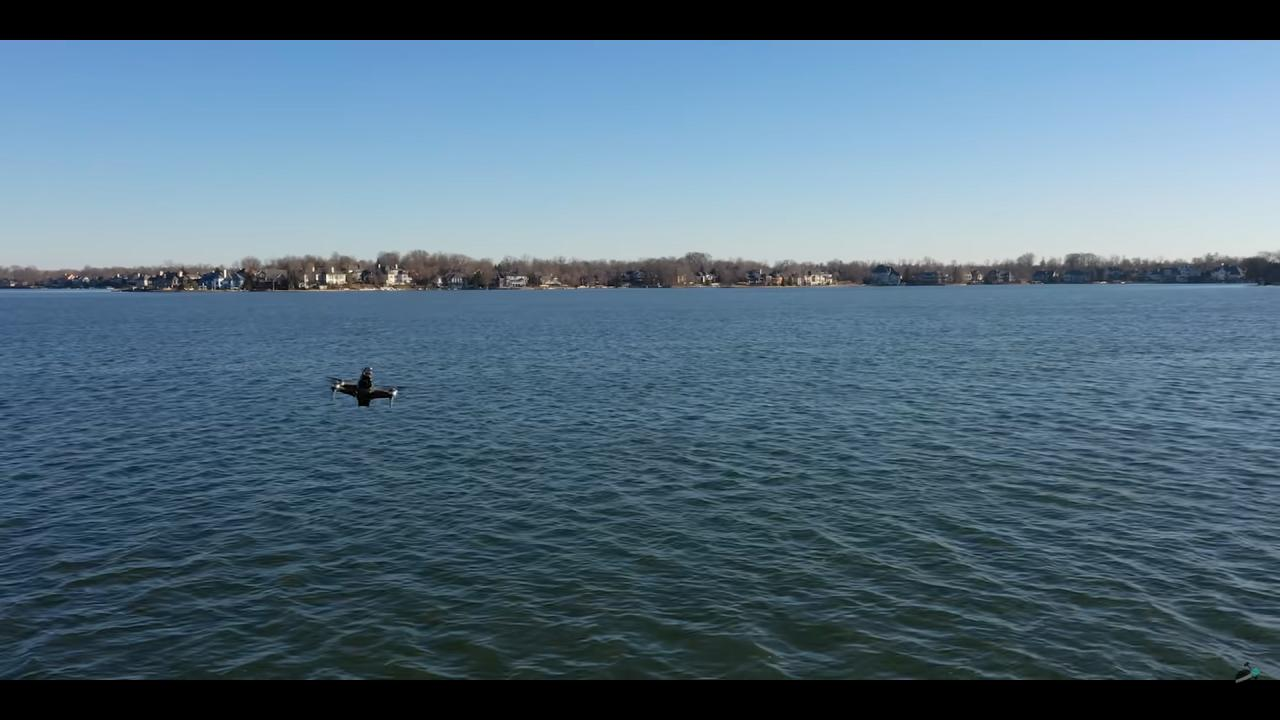Drone: (323, 357, 415, 420)
